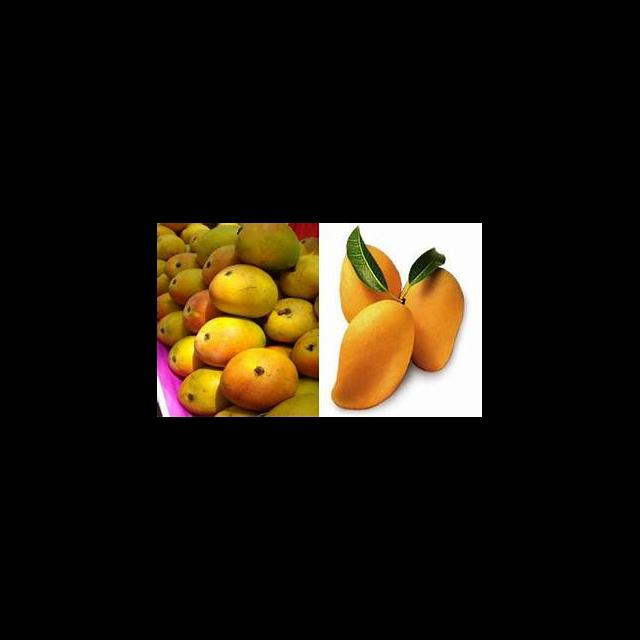mango: (334, 302, 416, 409), (218, 346, 300, 414), (208, 264, 280, 320), (194, 317, 266, 369), (236, 223, 302, 272), (180, 368, 232, 417), (280, 239, 320, 302)
